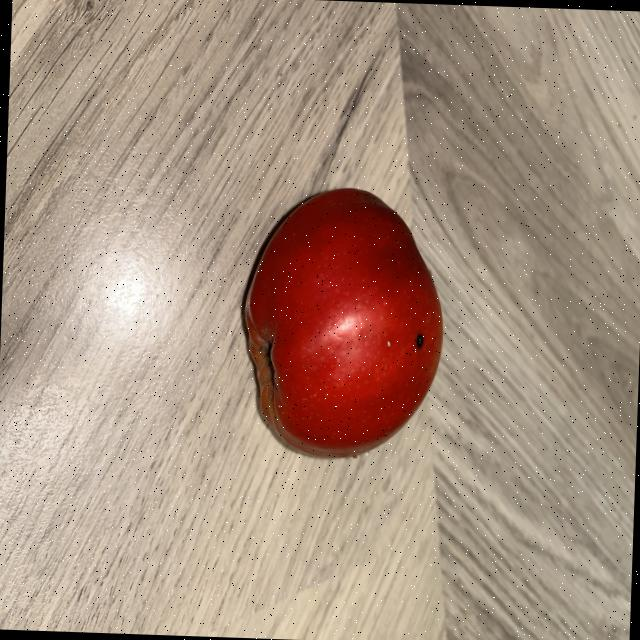apple: (239, 187, 441, 461)
